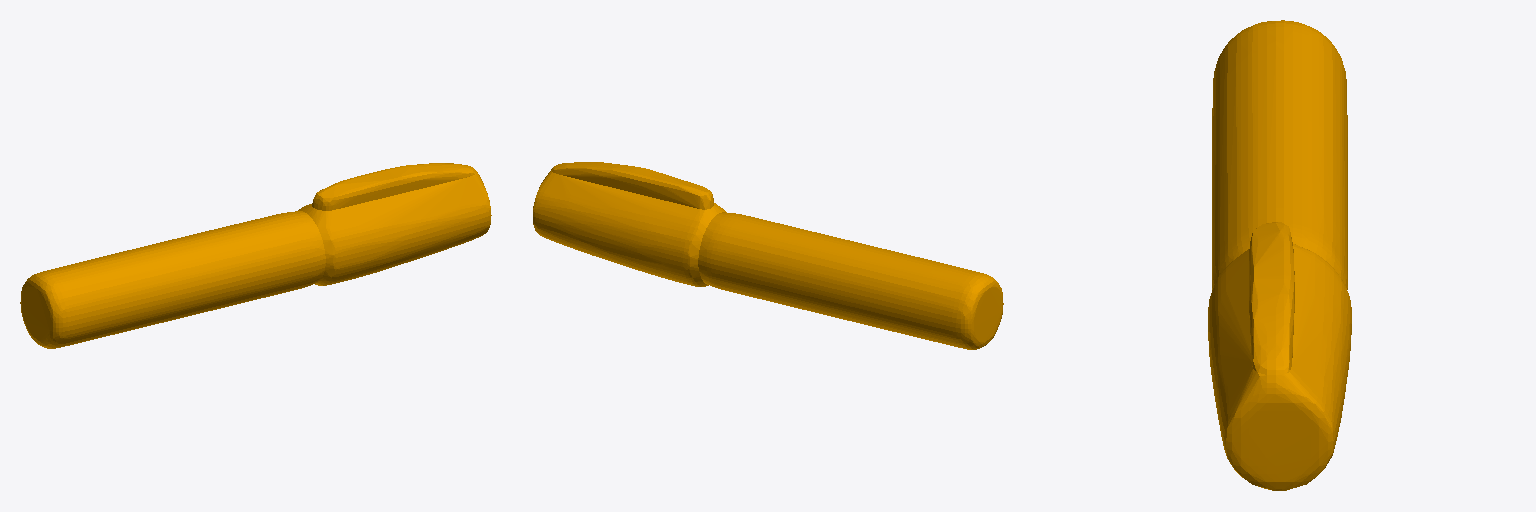
URDF robot description (sharpie_marker):
<?xml version="1.0"?>
<robot name="sharpie_marker">
  <link name="sharpie_marker">
    <visual>
      <origin xyz="0 0 0" rpy="0 0 0"/>
      <geometry>
        <mesh filename="sharpie_marker.obj" scale="1 1 1"/>
      </geometry>
    </visual>
    <collision>
      <origin xyz="0 0 0" rpy="0 0 0"/>
      <geometry>
        <mesh filename="sharpie_marker.obj" scale="1 1 1"/>
      </geometry>
    </collision>
    <inertial>
      <density value="400.0"/>
    </inertial>
  </link>
</robot>

--- Facts derived from the render (not from the file) ---
The picture shows the robot from 3 angles, left to right: view 1: azimuth 30°, elevation 25°; view 2: azimuth 150°, elevation 25°; view 3: azimuth 270°, elevation 25°; orthographic projection.
Robot: sharpie_marker — 1 links, 0 joints (none); root link sharpie_marker; default pose: all joints at 0.
Visible links, largest first — view 1: sharpie_marker; view 2: sharpie_marker; view 3: sharpie_marker.
Link boxes in pixels (x1,y1,x2,y2): sharpie_marker: [20, 163, 491, 348]; sharpie_marker: [533, 162, 1003, 349]; sharpie_marker: [1208, 20, 1351, 490].
Bounding box of the posed robot: 0.1445 × 0.0235 × 0.0294 m (x, y, z).
Meshes: 1 distinct files referenced, 1 mesh visuals loaded (1 OBJ).
